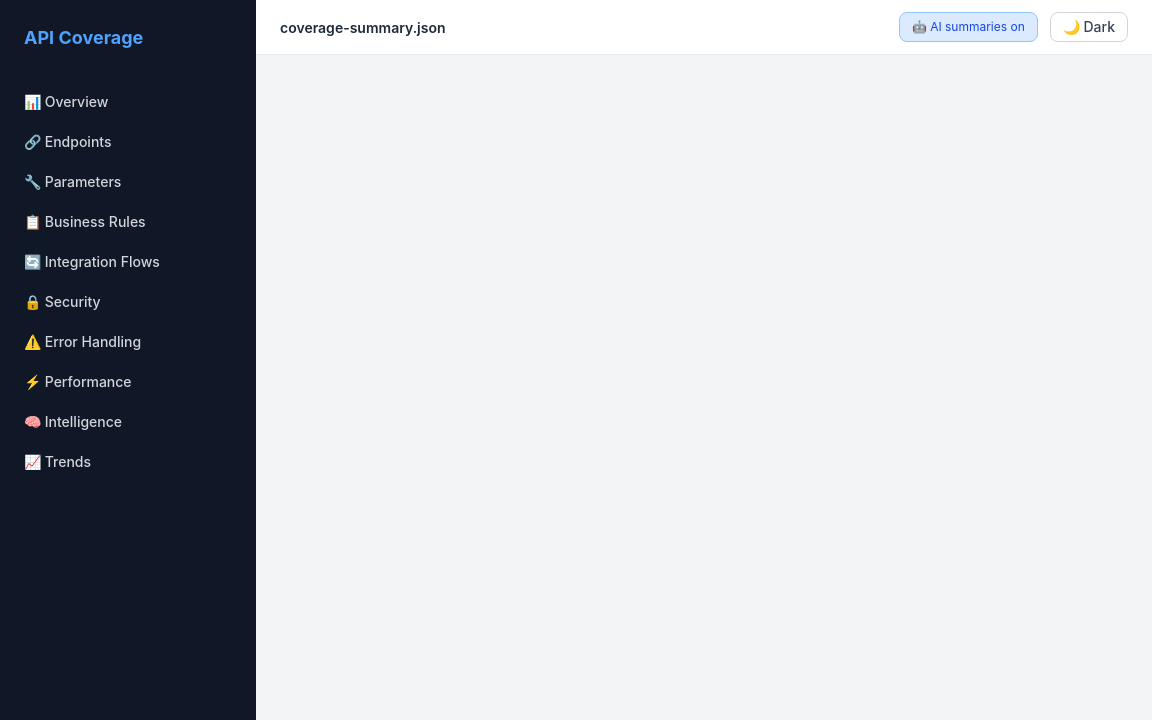
Test: Dashboard navigation › navigates to /integration-flows via sidebar and shows h1 "Integration Flows"
The image size is (1152, 720).
Click the link "🔄 Integration Flows" at (92, 262), box [24,253,160,270]
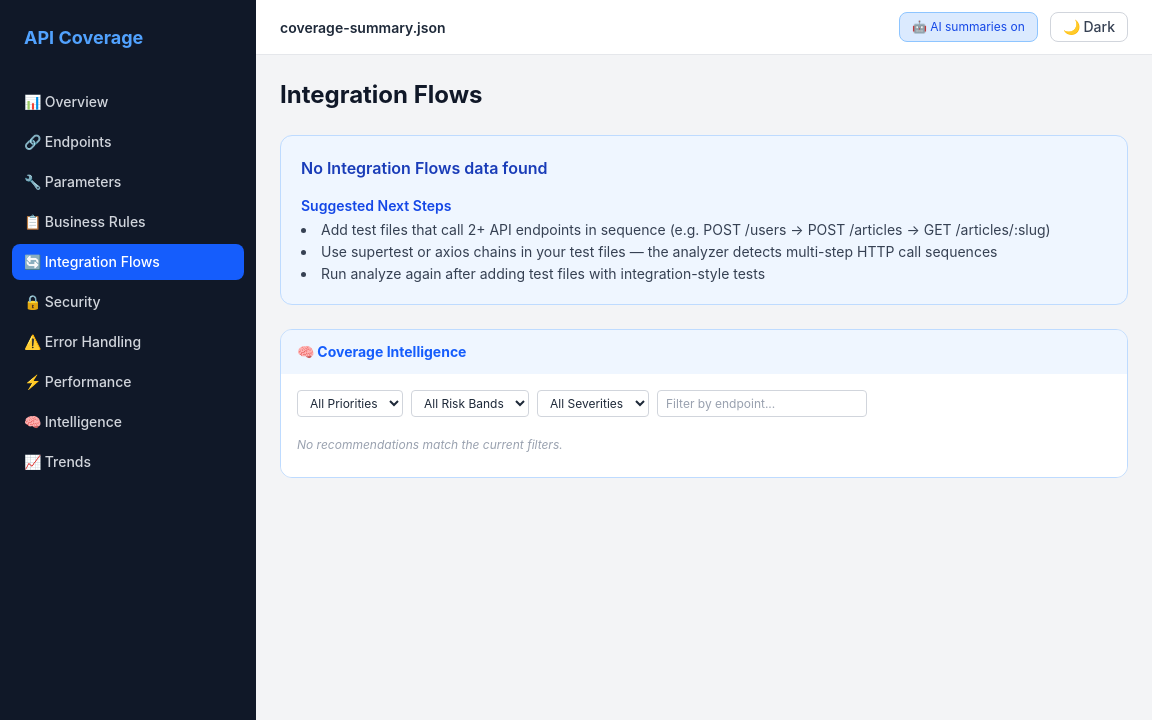
Result: the heading "Integration Flows" is shown at [280,80,482,109]
